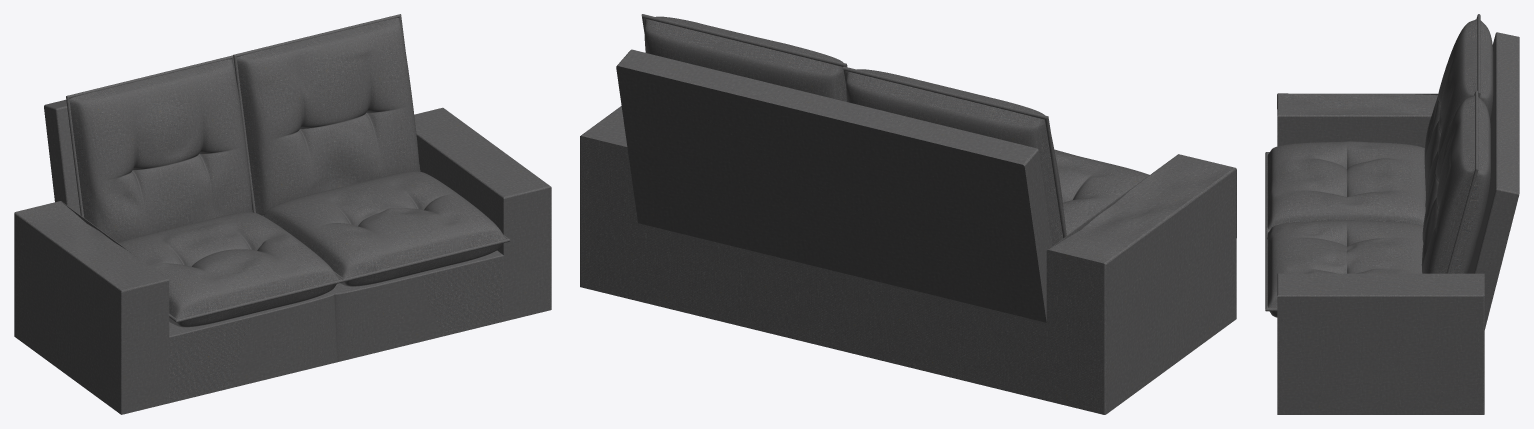
The model's file is sofaoficial.glb.
3 views of the same model, side by side, from view 1: azimuth 30°, elevation 25°; view 2: azimuth 150°, elevation 25°; view 3: azimuth 270°, elevation 25° (orthographic). The views are drawn at different scales.
Visible parts, largest first — view 1: Sofá\Sólido (4), Sofá\Sólido (4).001, Componente2\Sólido11, Componente1\Sólido, Sofá\Sólido (2), Sofá\Sólido, Componente2\Sólido11 (2), Sólido1\Sólido1; view 2: Sólido1\Sólido1, Componente2\Sólido11, Componente1\Sólido, Sofá\Sólido (4).001, Componente2\Sólido11 (2), Sofá\Sólido (4), Sofá\Sólido; view 3: Componente2\Sólido11 (2), Sofá\Sólido, Sofá\Sólido (4), Sofá\Sólido (2), Componente2\Sólido11, Sólido1\Sólido1, Sofá\Sólido (4).001.
Boxes of the visible parts, x1,y1,x2,y2 form: Sofá\Sólido (4): (233,14,420,215); Sofá\Sólido (4).001: (66,55,252,242); Componente2\Sólido11: (14,201,169,414); Componente1\Sólido: (169,250,503,403); Sofá\Sólido (2): (262,171,510,286); Sofá\Sólido: (118,212,343,327); Componente2\Sólido11 (2): (414,107,551,321); Sólido1\Sólido1: (44,99,80,214); Sólido1\Sólido1: (616,49,1052,322); Componente2\Sólido11: (1046,154,1236,414); Componente1\Sólido: (638,223,1046,400); Sofá\Sólido (4).001: (843,66,1066,245); Componente2\Sólido11 (2): (580,106,637,300); Sofá\Sólido (4): (641,14,847,101); Sofá\Sólido: (1054,149,1149,235); Componente2\Sólido11 (2): (1277,273,1484,414); Sofá\Sólido: (1265,141,1425,230); Sofá\Sólido (4): (1421,90,1490,273); Sofá\Sólido (2): (1265,220,1423,317); Componente2\Sólido11: (1277,93,1438,147); Sólido1\Sólido1: (1467,32,1519,329); Sofá\Sólido (4).001: (1424,14,1493,209).
Bounding box in the file's own units: 3.93 × 2.02 × 2.09.
1 material, 1 textured.
